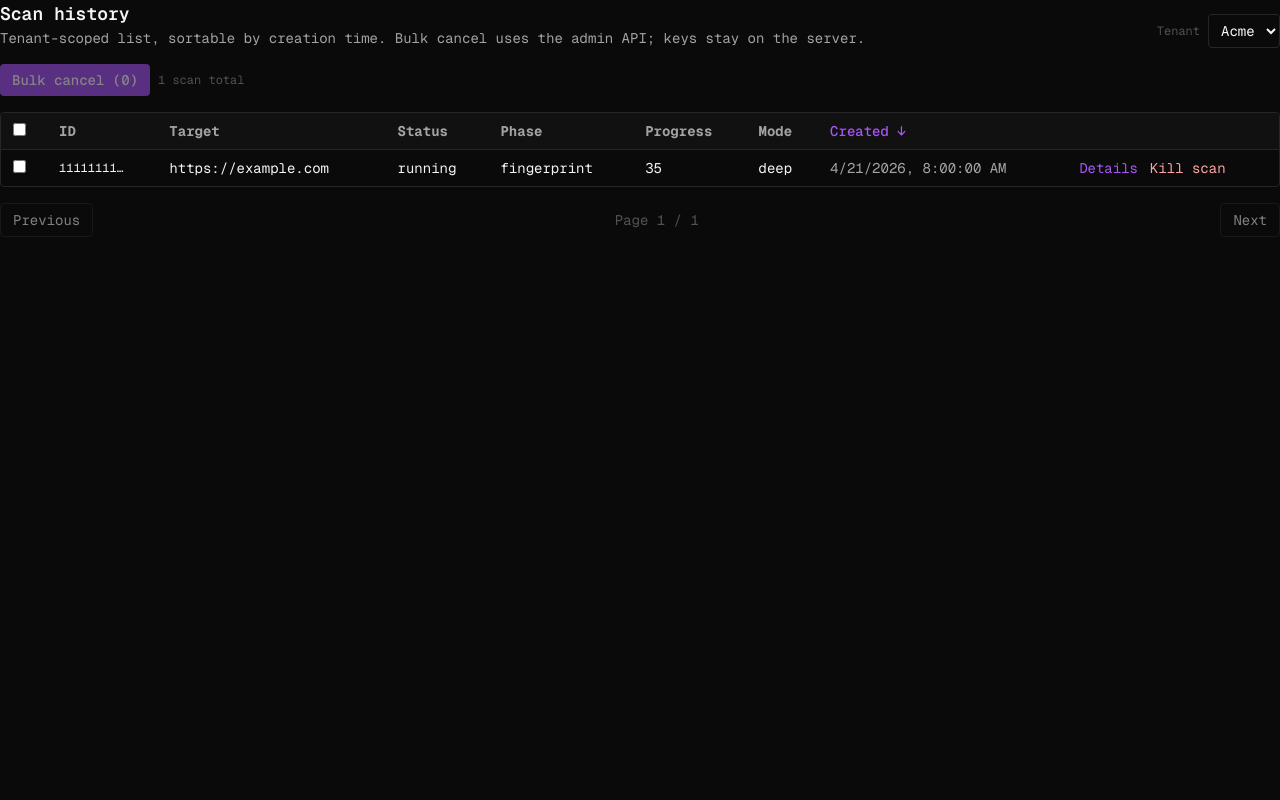
Scenario: AdminScansClient — per-scan kill-switch button (T28) › on successful confirm: refreshes the list and surfaces an info banner
The image size is (1280, 800).
Click the button "Kill scan".
click(1188, 168)  # box [1150, 158, 1226, 178]
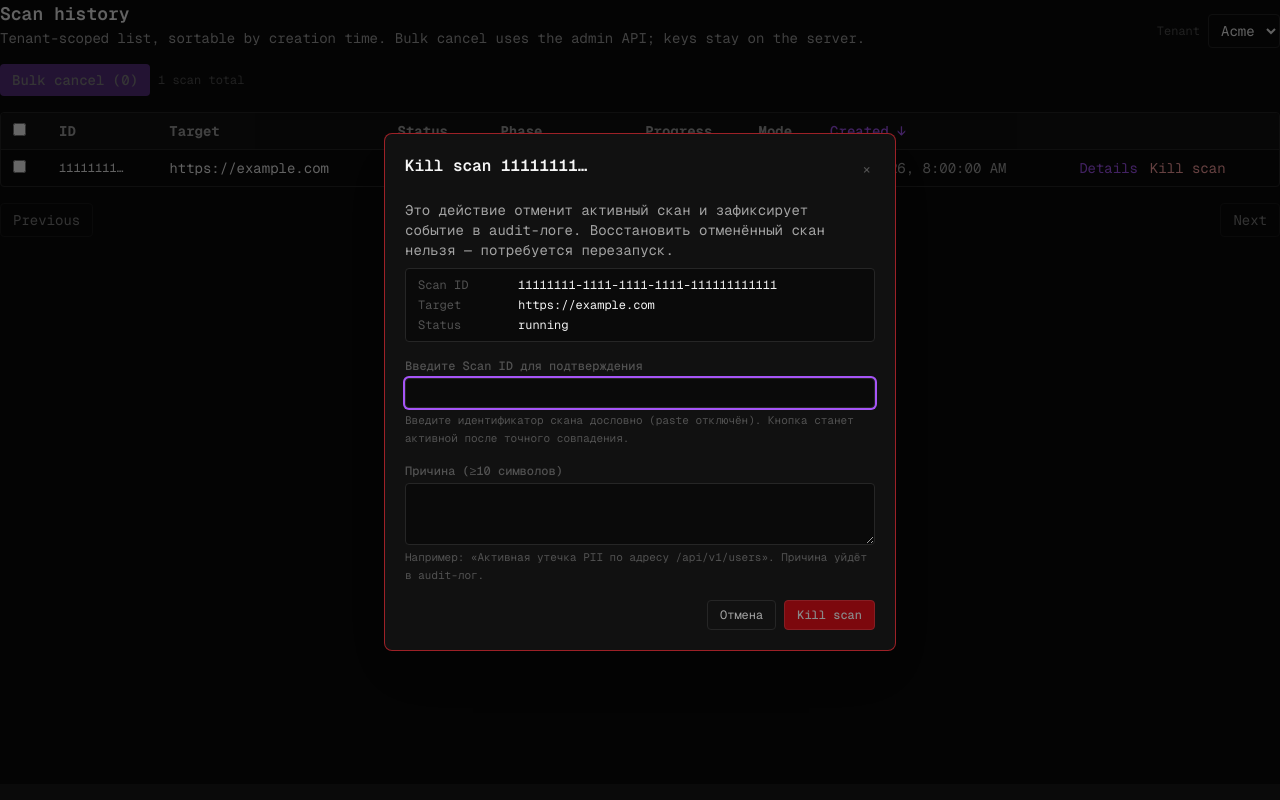
Type "11111111-1111-1111-1111-111111111111" into the field with test id "kill-scan-dialog-input".
click(640, 393); type("11111111-1111-1111-1111-111111111111")  # box [405, 378, 875, 408]
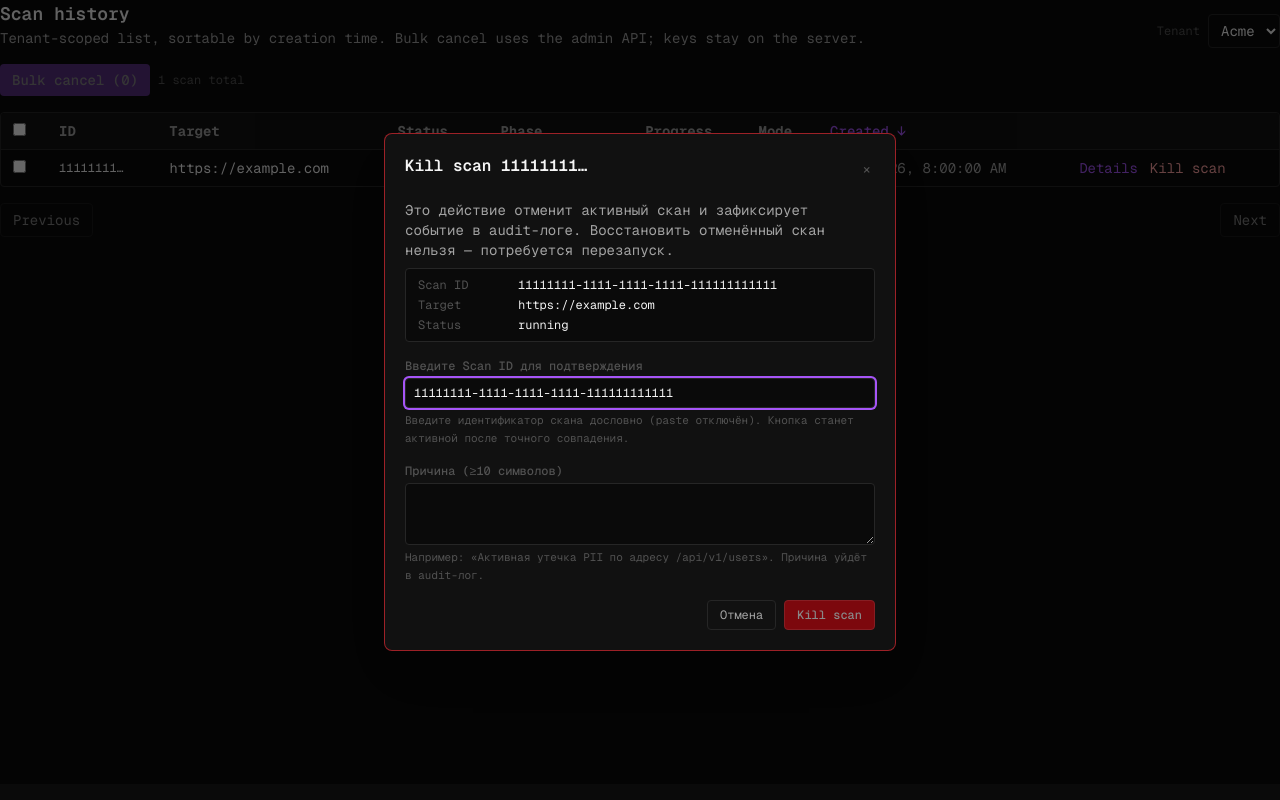
Type "PII leak observed at /api/v1/users" into the text box with test id "kill-scan-dialog-reason".
click(640, 514); type("PII leak observed at /api/v1/users")  # box [405, 483, 875, 545]
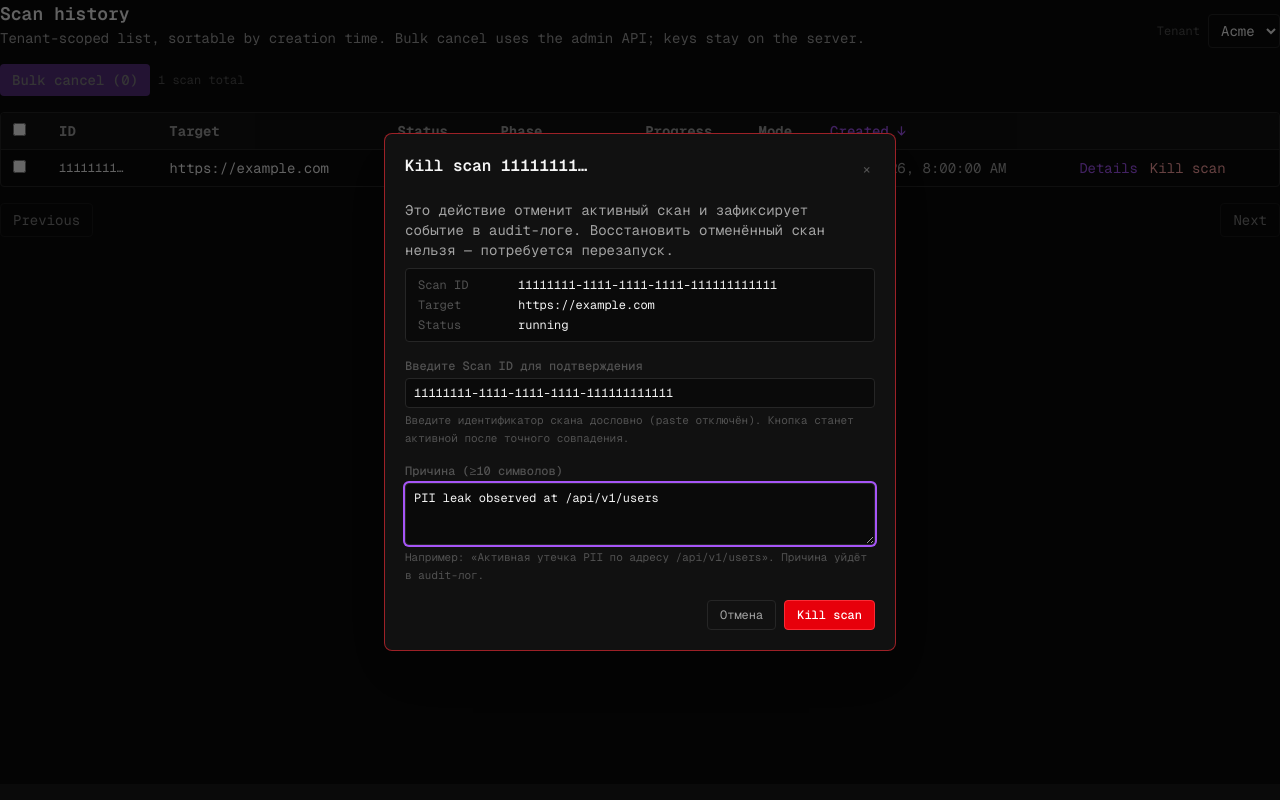
Click the button with test id "kill-scan-dialog-confirm".
click(830, 615)  # box [784, 600, 875, 630]
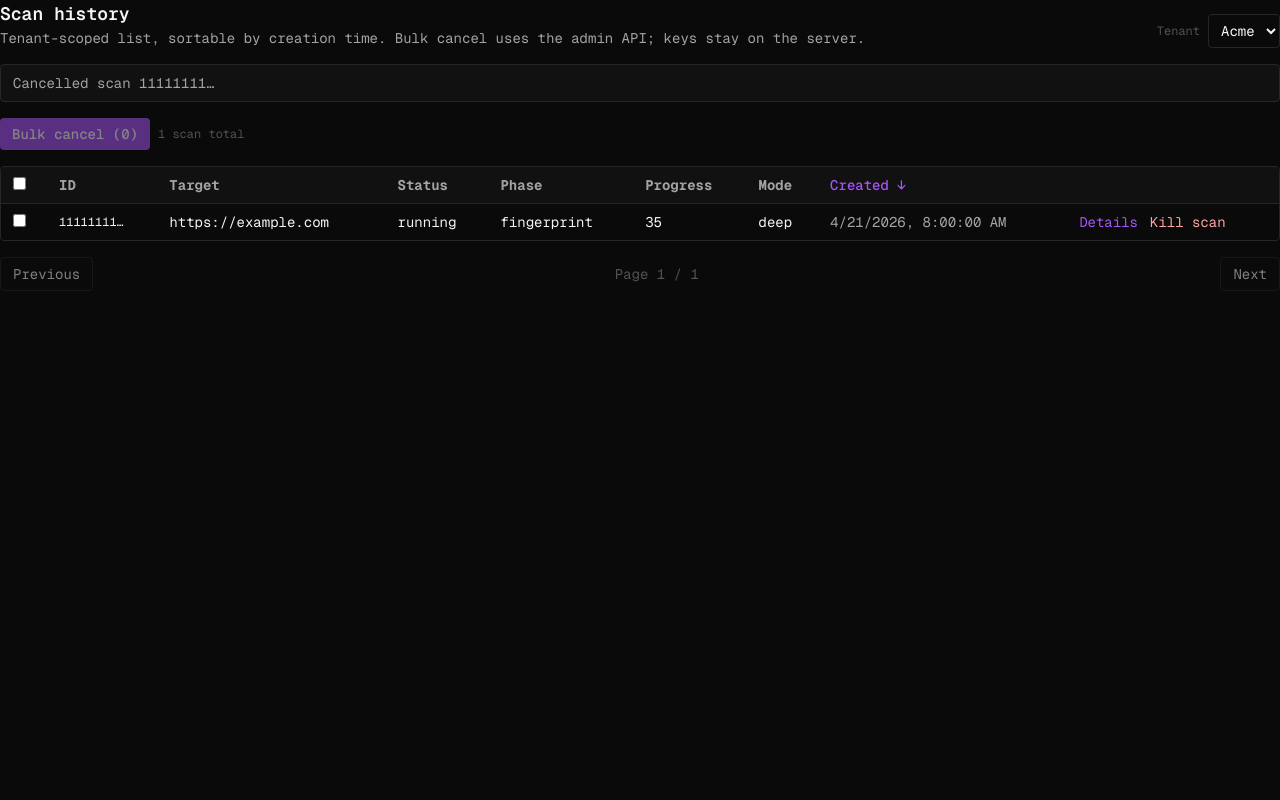
Expected: the dialog with test id "kill-scan-dialog" is gone
Expected: the text "Cancelled scan 11111111…" is shown, [0, 64, 1279, 102]
